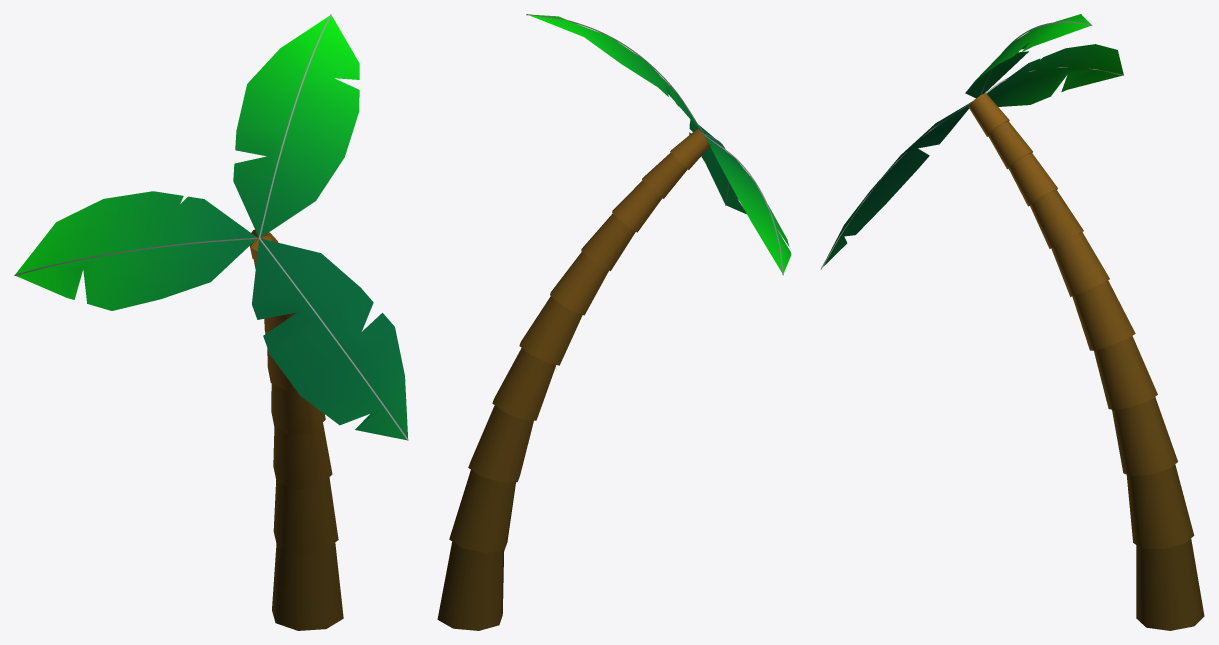
File: PalmTree350.FBX
3 views of the same model, side by side, from view 1: azimuth 30°, elevation 25°; view 2: azimuth 150°, elevation 25°; view 3: azimuth 270°, elevation 25° (orthographic). The views are drawn at different scales.
Visible parts, largest first — view 1: Cylinder003; view 2: Cylinder003; view 3: Cylinder003.
Boxes of the visible parts, x1,y1,x2,y2 form: Cylinder003: [15, 15, 407, 630]; Cylinder003: [437, 15, 791, 630]; Cylinder003: [823, 14, 1204, 630].
Size of the model in its own units: 476 by 826 by 491.
Materials: 10 (9 with a texture image).
